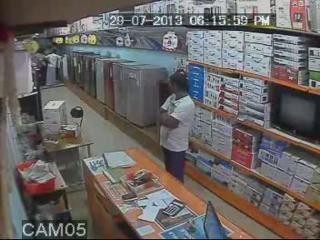Normal: (158, 70, 196, 184), (270, 88, 320, 145)
